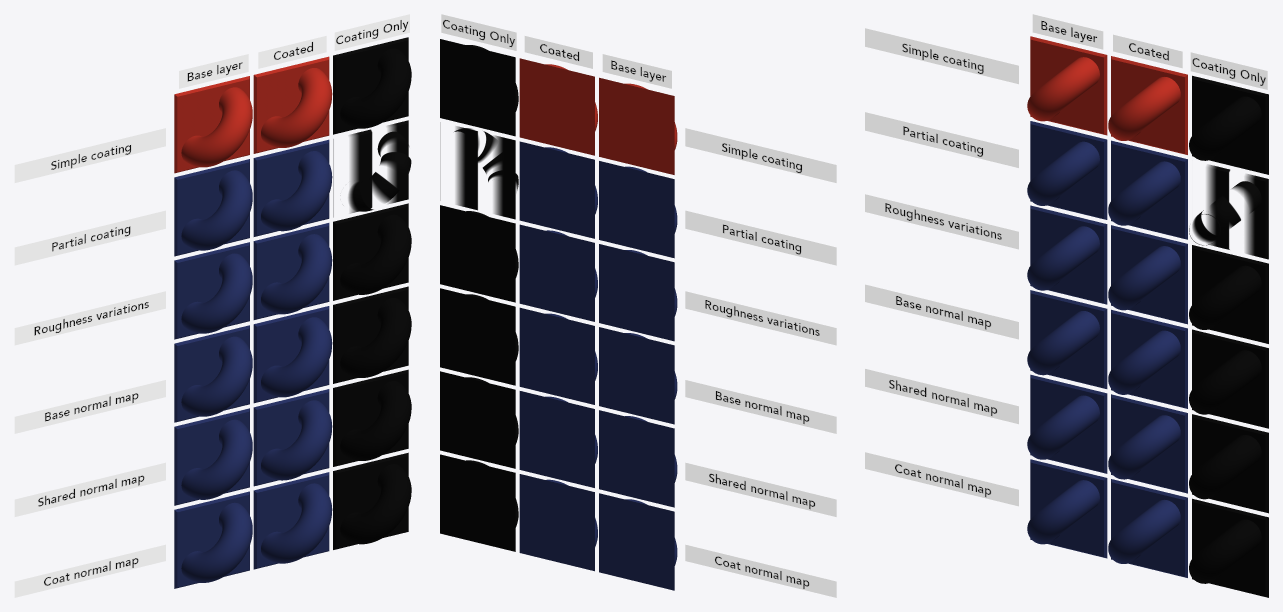
File: ClearCoatTest.glb
The picture shows the model from 3 angles, left to right: view 1: azimuth 30°, elevation 25°; view 2: azimuth 150°, elevation 25°; view 3: azimuth 330°, elevation 25°; orthographic projection.
Parts seen in each view (by area): view 1: R4_ClearCoatSample, R5_ClearCoatSample, R2_ClearCoatSample, R3_ClearCoatSample, ClearCoatSample, R1_ClearCoatSample, R2_BaseLayerSample, BaseLayerSample, R1_BaseLayerSample, CoatOnlySample, R2_CoatOnlySample, R3_BaseLayerSample (+15 smaller); view 2: R1_ClearCoatSample, R2_ClearCoatSample, R3_ClearCoatSample, R5_ClearCoatSample, ClearCoatSample, R4_ClearCoatSample, R2_CoatOnlySample, R5_CoatOnlySample, R1_BaseLayerSample, R3_CoatOnlySample, R4_CoatOnlySample, BaseLayerSample (+15 smaller); view 3: R5_BaseLayerSample, BaseLayerSample, R2_BaseLayerSample, R4_BaseLayerSample, R3_BaseLayerSample, R1_BaseLayerSample, R3_CoatOnlySample, R4_CoatOnlySample, CoatOnlySample, R5_ClearCoatSample, R1_ClearCoatSample, R2_ClearCoatSample (+15 smaller).
Part boxes in pixels (bbox=[...]): R4_ClearCoatSample: bbox=[253, 472, 332, 569]; R5_ClearCoatSample: bbox=[253, 389, 332, 486]; R2_ClearCoatSample: bbox=[253, 223, 332, 319]; R3_ClearCoatSample: bbox=[253, 306, 332, 403]; ClearCoatSample: bbox=[253, 56, 332, 153]; R1_ClearCoatSample: bbox=[253, 139, 332, 236]; R2_BaseLayerSample: bbox=[174, 242, 252, 339]; BaseLayerSample: bbox=[174, 76, 252, 173]; R1_BaseLayerSample: bbox=[174, 159, 252, 256]; CoatOnlySample: bbox=[333, 37, 411, 134]; R2_CoatOnlySample: bbox=[333, 203, 411, 300]; R3_BaseLayerSample: bbox=[174, 325, 252, 422]; R1_ClearCoatSample: bbox=[519, 141, 597, 238]; R2_ClearCoatSample: bbox=[519, 224, 597, 321]; R3_ClearCoatSample: bbox=[519, 307, 597, 404]; R5_ClearCoatSample: bbox=[519, 391, 597, 487]; ClearCoatSample: bbox=[519, 58, 597, 155]; R4_ClearCoatSample: bbox=[519, 474, 597, 571]; R2_CoatOnlySample: bbox=[440, 205, 518, 302]; R5_CoatOnlySample: bbox=[440, 371, 518, 468]; R1_BaseLayerSample: bbox=[599, 161, 677, 258]; R3_CoatOnlySample: bbox=[440, 288, 518, 385]; R4_CoatOnlySample: bbox=[440, 454, 518, 551]; BaseLayerSample: bbox=[599, 77, 677, 174]; R5_BaseLayerSample: bbox=[1027, 374, 1107, 473]; BaseLayerSample: bbox=[1027, 36, 1107, 135]; R2_BaseLayerSample: bbox=[1027, 205, 1107, 304]; R4_BaseLayerSample: bbox=[1027, 459, 1107, 558]; R3_BaseLayerSample: bbox=[1027, 290, 1107, 388]; R1_BaseLayerSample: bbox=[1027, 121, 1107, 219]; R3_CoatOnlySample: bbox=[1189, 329, 1268, 428]; R4_CoatOnlySample: bbox=[1189, 498, 1268, 597]; CoatOnlySample: bbox=[1189, 75, 1268, 174]; R5_ClearCoatSample: bbox=[1108, 394, 1187, 493]; R1_ClearCoatSample: bbox=[1108, 140, 1187, 239]; R2_ClearCoatSample: bbox=[1108, 225, 1187, 324].
Bounding box in the file's own units: 10.46 × 13.1 × 1.11.
19 materials, 2 textured.
